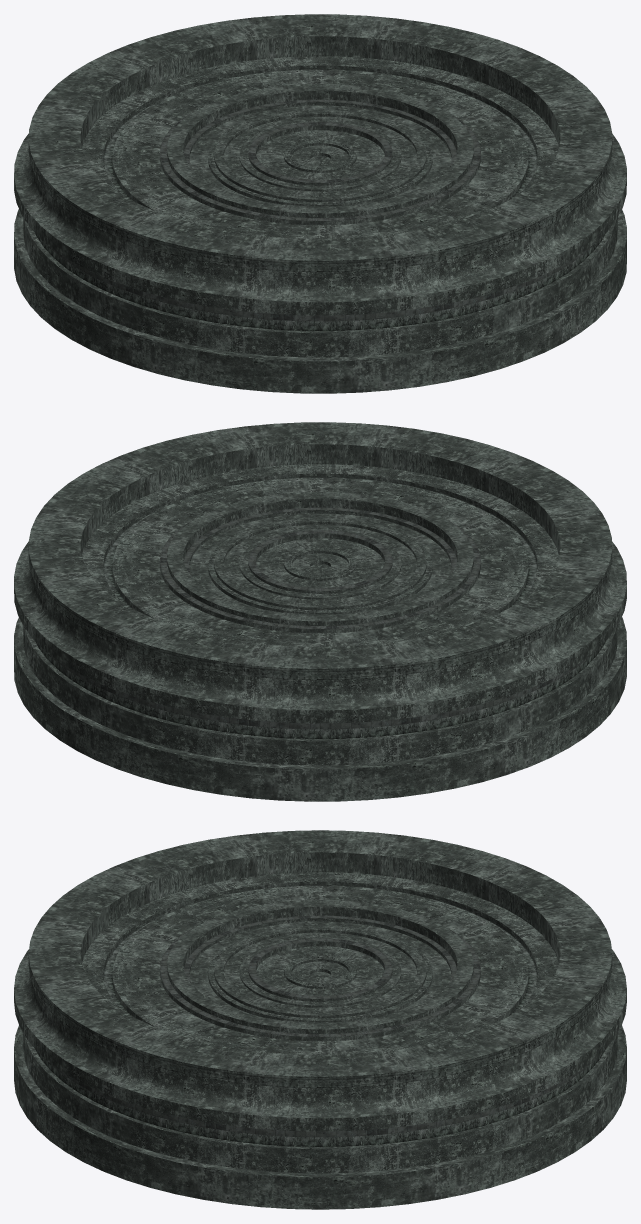
The model's file is mg_9_plate_7.fbx.
3 renders of one model, top to bottom at view 1: azimuth 30°, elevation 25°; view 2: azimuth 150°, elevation 25°; view 3: azimuth 270°, elevation 25°, orthographic.
Parts seen in each view (by area): view 1: mg_9_plate_7; view 2: mg_9_plate_7; view 3: mg_9_plate_7.
Boxes of the visible parts, x1,y1,x2,y2 form: mg_9_plate_7: (14, 14, 626, 393); mg_9_plate_7: (14, 422, 626, 801); mg_9_plate_7: (14, 830, 626, 1209).
Bounding box in the file's own units: 1636 × 372 × 1636.
